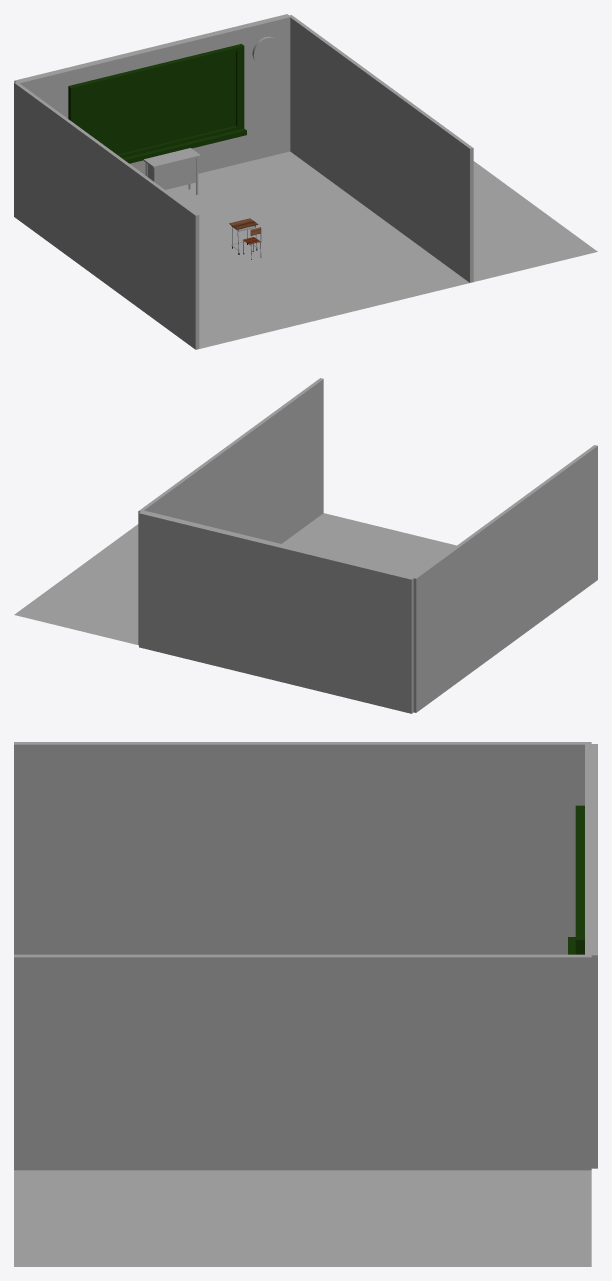
The model's file is classroom.fbx.
The picture shows the model from 3 angles, top to bottom: view 1: azimuth 30°, elevation 25°; view 2: azimuth 150°, elevation 25°; view 3: azimuth 270°, elevation 25°; orthographic projection. The views are drawn at different scales.
Parts seen in each view (by area): view 1: floor_, wall, wall1, blackbord, wall2, rouka, pCube19, clock, pCube17; view 2: wall2, wall, wall1, rouka, floor_; view 3: wall1, wall, rouka, wall2, blackbord.
Boxes of the visible parts, x1,y1,x2,y2 form: floor_: (165,151,469,348); wall: (14,82,199,349); wall1: (289,15,473,282); blackbord: (68,44,246,163); wall2: (14,14,290,175); rouka: (473,161,597,281); pCube19: (147,158,196,189); clock: (252,36,280,65); pCube17: (143,148,200,168); wall2: (139,510,414,713); wall: (413,445,597,712); wall1: (138,378,323,645); rouka: (14,524,138,644); floor_: (282,513,456,576); wall1: (14,954,591,1170); wall: (14,742,591,954); rouka: (14,1170,591,1266); wall2: (585,744,597,1168); blackbord: (568,805,584,954).
Size of the model in its own units: 1149 by 368 by 910.
4 materials, 2 textured.
